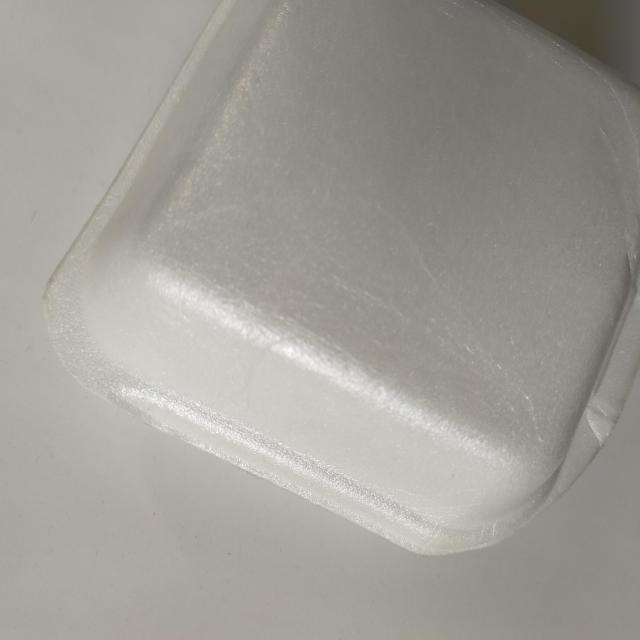styrofoam: (40, 0, 639, 559)
